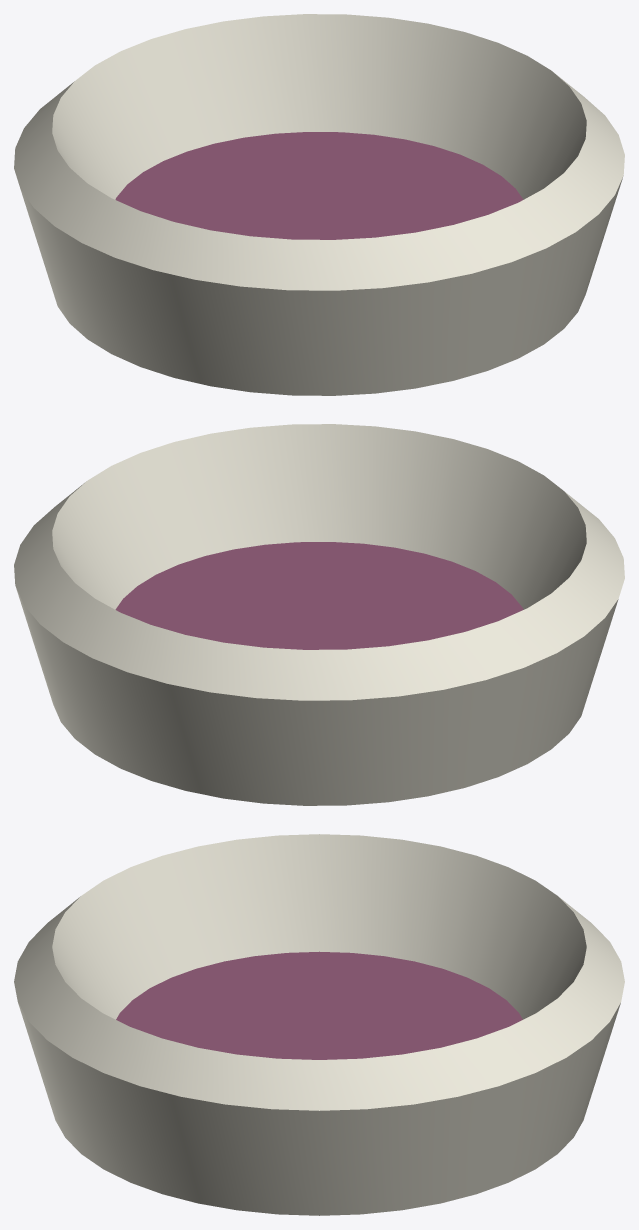
The model's file is bookbinding-and-paper-mill-pigment-dish-0ff63a7a__30590.glb.
3 renders of one model, top to bottom at view 1: azimuth 30°, elevation 25°; view 2: azimuth 150°, elevation 25°; view 3: azimuth 270°, elevation 25°, orthographic.
Parts seen in each view (by area): view 1: pigment-dish; view 2: pigment-dish; view 3: pigment-dish.
Part boxes in pixels (x1,y1,x2,y2): pigment-dish: [14, 14, 624, 395]; pigment-dish: [14, 424, 624, 805]; pigment-dish: [14, 834, 624, 1215].
Size of the model in its own units: 0.16 by 0.045 by 0.16.
